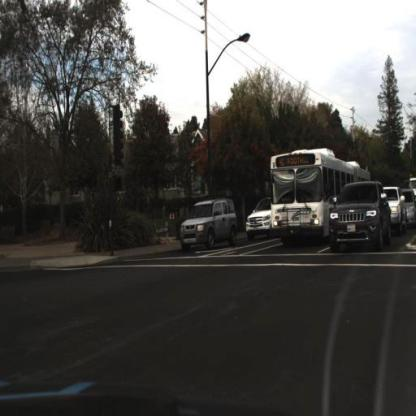car: (330, 181, 391, 258), (180, 195, 240, 249), (243, 194, 275, 241)
truck: (273, 149, 373, 248)
